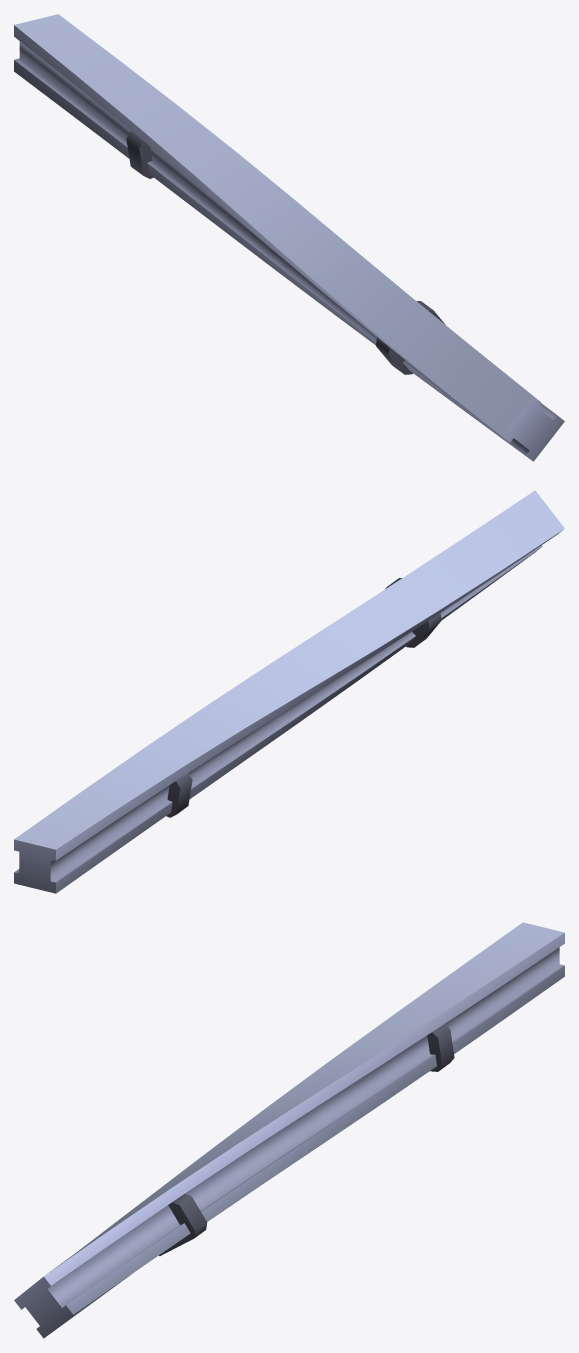
The model's file is kenney-coaster-coaster-monorail-straight-skew-right.glb.
The picture shows the model from 3 angles, top to bottom: view 1: azimuth 30°, elevation 25°; view 2: azimuth 150°, elevation 25°; view 3: azimuth 330°, elevation 25°; orthographic projection. The views are drawn at different scales.
Visible parts, largest first — view 1: coaster-monorail-straight-skew-right; view 2: coaster-monorail-straight-skew-right; view 3: coaster-monorail-straight-skew-right.
Part boxes in pixels (box(x1,y1,x2,y2)): coaster-monorail-straight-skew-right: box(14, 14, 564, 461); coaster-monorail-straight-skew-right: box(14, 490, 564, 893); coaster-monorail-straight-skew-right: box(14, 922, 564, 1338).
Bounding box in the file's own units: 0.3355 × 0.3023 × 4.
1 material, 1 textured.
